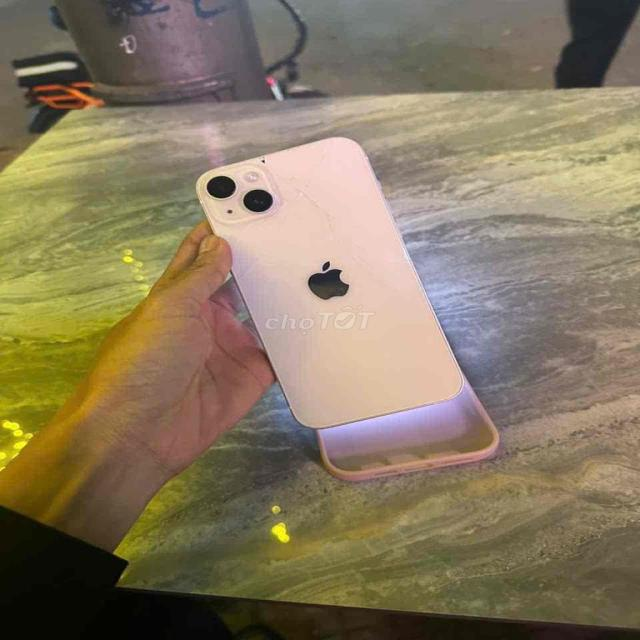gen_12_13: (195, 138, 467, 426)
